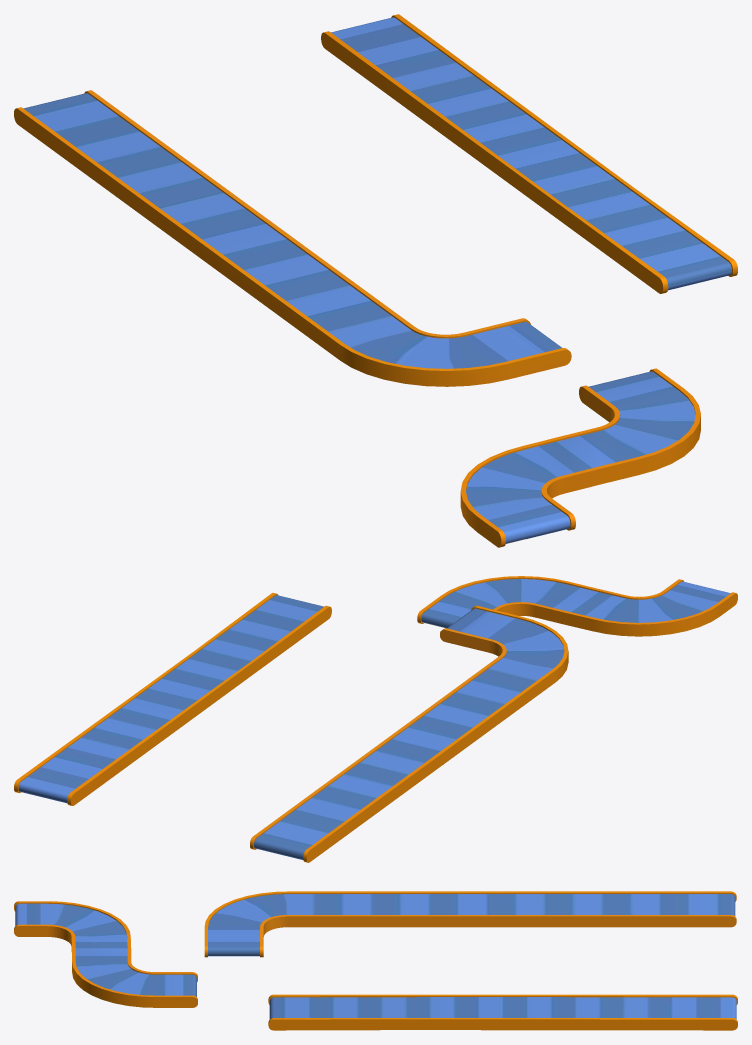
Rendered from conveyer.fbx.
3 views of the same model, one above another, from view 1: azimuth 30°, elevation 25°; view 2: azimuth 150°, elevation 25°; view 3: azimuth 270°, elevation 25° (orthographic). The views are drawn at different scales.
Parts seen in each view (by area): view 1: conver, conver.001, conver.002; view 2: conver, conver.001, conver.002; view 3: conver, conver.001, conver.002.
Part boxes in pixels (x1,y1,x2,y2): conver: (14, 90, 571, 386); conver.001: (321, 14, 737, 293); conver.002: (460, 368, 700, 547); conver: (250, 605, 568, 862); conver.001: (14, 593, 331, 805); conver.002: (417, 576, 737, 636); conver: (204, 891, 736, 957); conver.001: (268, 994, 737, 1030); conver.002: (14, 901, 197, 1007).
Size of the model in its own units: 311 by 34.48 by 672.
